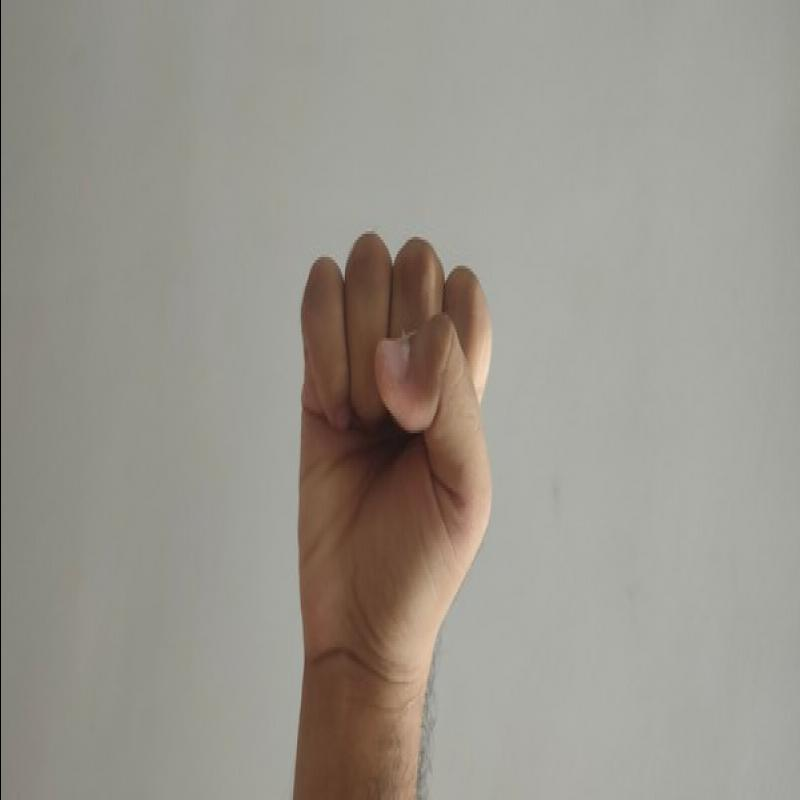Mushti: (266, 211, 522, 697)
